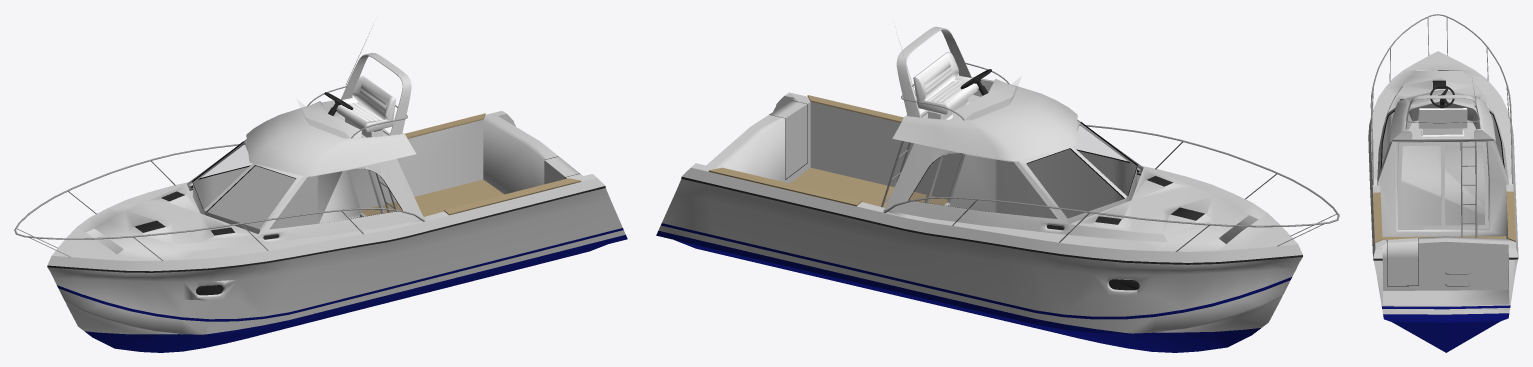
The model's file is 5086Boat.FBX.
The picture shows the model from 3 angles, left to right: view 1: azimuth 30°, elevation 25°; view 2: azimuth 150°, elevation 25°; view 3: azimuth 270°, elevation 25°; orthographic projection. The views are drawn at different scales.
Visible parts, largest first — view 1: WHITE PLST, boat wood, BLACK PLAS, white mate, CHROME, GLASS; view 2: WHITE PLST, boat wood, BLACK PLAS, CHROME, white mate, GLASS, BLACK mate; view 3: WHITE PLST, CHROME, white mate, boat wood, BLACK PLAS, BLACK mate.
Part boxes in pixels (x1,y1,x2,y2): WHITE PLST: (47, 28, 627, 352); boat wood: (361, 113, 581, 216); BLACK PLAS: (47, 92, 605, 295); white mate: (333, 75, 396, 137); CHROME: (14, 86, 424, 260); GLASS: (199, 117, 401, 215); WHITE PLST: (656, 26, 1302, 352); boat wood: (708, 95, 947, 207); BLACK PLAS: (681, 69, 1302, 290); CHROME: (881, 62, 1339, 251); white mate: (913, 51, 978, 119); GLASS: (910, 97, 1129, 205); BLACK mate: (769, 100, 1137, 211); WHITE PLST: (1368, 51, 1518, 352); CHROME: (1370, 14, 1513, 286); white mate: (1418, 108, 1467, 136); boat wood: (1372, 191, 1515, 242); BLACK PLAS: (1368, 80, 1518, 260); BLACK mate: (1380, 110, 1504, 286).
Size of the model in its own units: 13.1 by 5.9 by 3.87.
